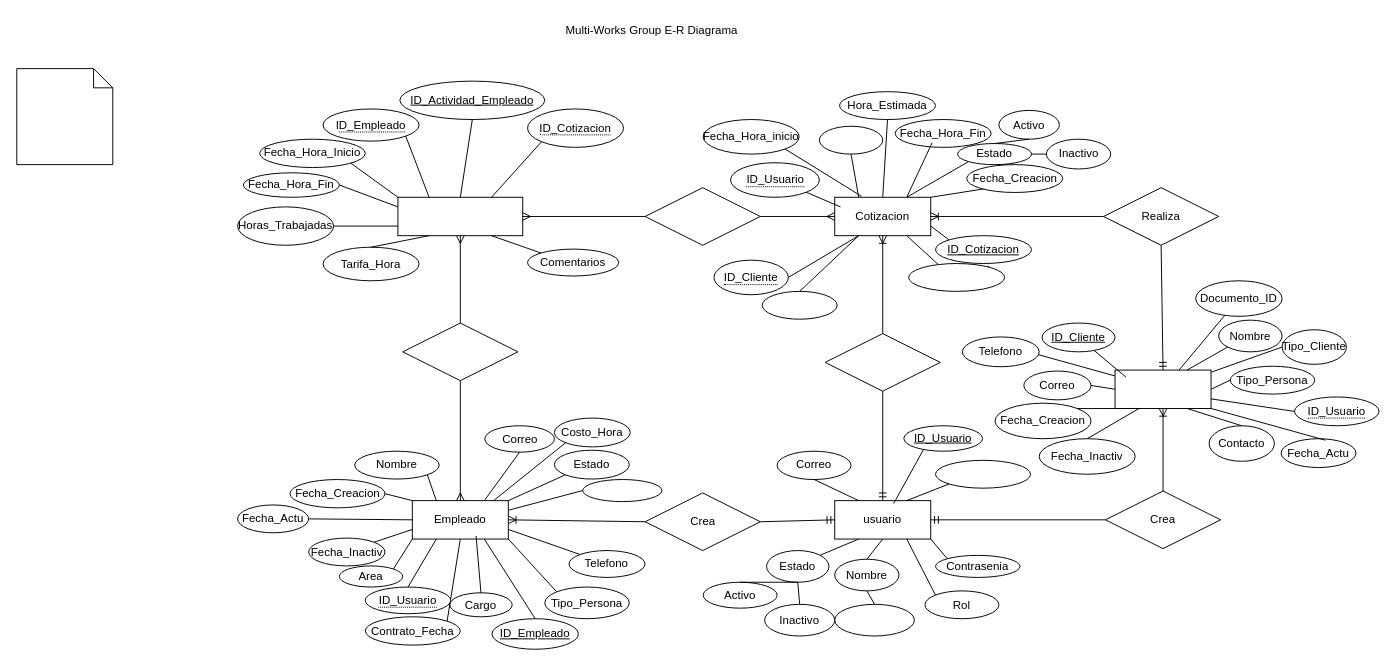
Image size: 1396x666. Some labels were removed from this diagram. The centre of each missing label's shape, as x and y in pixels:
"Actividad_Empleado" goes at [460,216].
"Apellido" goes at [874,619].
"Cliente" goes at [1162,388].
"Desarrolla" goes at [460,351].
"Descripcion" goes at [956,277].
"Direccion" goes at [622,490].
"Elabora" goes at [882,362].
"Hecho por: Rafael Escorcia POO Grupo 5" goes at [64,116].
"Nombre_Usuario" goes at [983,473].
"Tareas" goes at [850,139].
"Titulo_Act" goes at [799,304].
"Trabajado" goes at [702,216].
